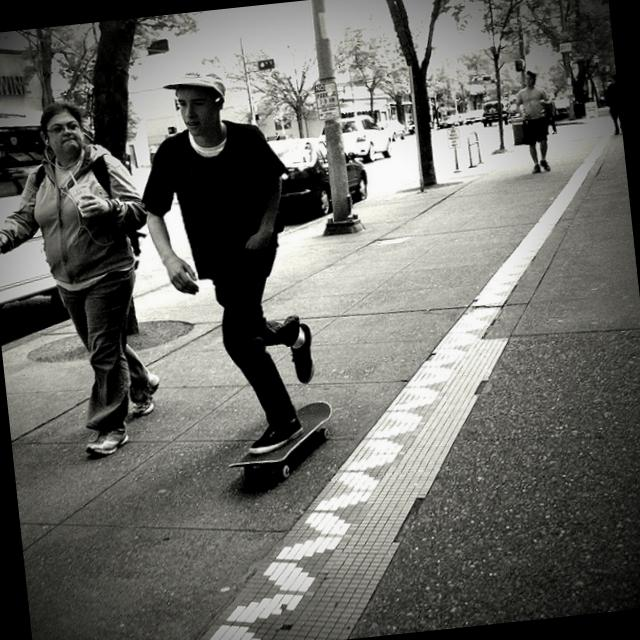Vehicle: (0, 119, 62, 356), (266, 130, 372, 219), (312, 110, 394, 166), (478, 100, 509, 127), (379, 119, 406, 142), (438, 115, 459, 128), (464, 115, 482, 126)
